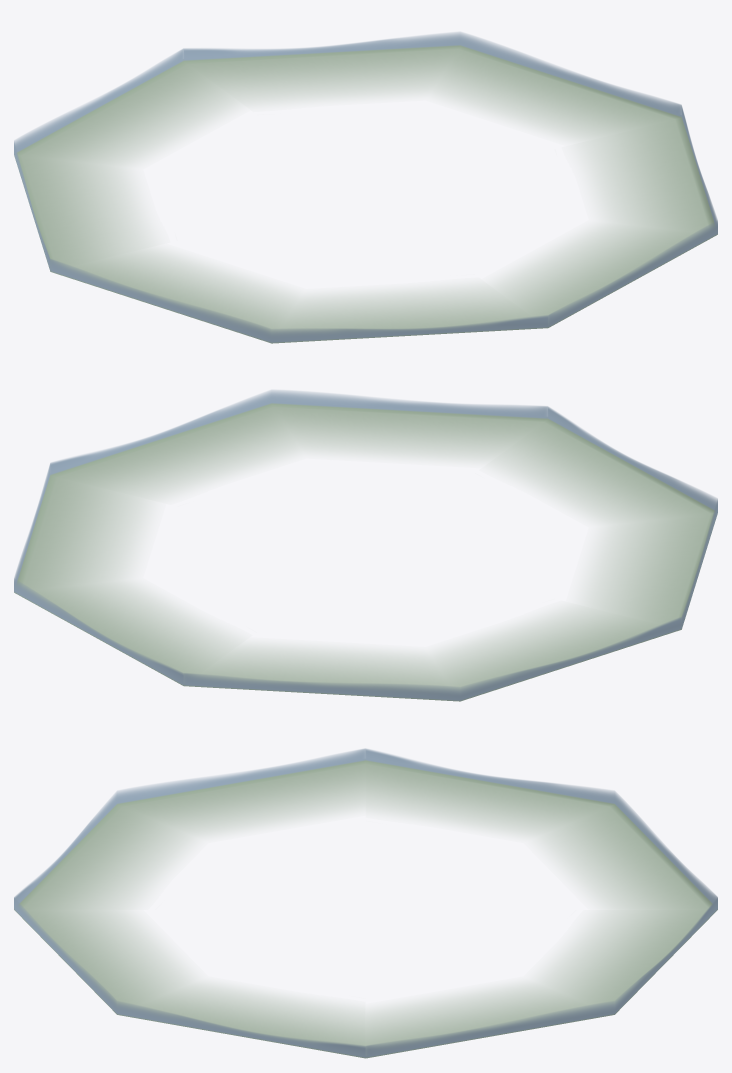
File: far.glb
The picture shows the model from 3 angles, top to bottom: view 1: azimuth 30°, elevation 25°; view 2: azimuth 150°, elevation 25°; view 3: azimuth 270°, elevation 25°; orthographic projection. The views are drawn at different scales.
Visible parts, largest first — view 1: Cylinder; view 2: Cylinder; view 3: Cylinder.
Boxes of the visible parts, x1=… form: Cylinder: x1=14, y1=32, x2=717, y2=343; Cylinder: x1=14, y1=390, x2=717, y2=701; Cylinder: x1=14, y1=748, x2=717, y2=1058.
Bounding box in the file's own units: 4 × 0.1915 × 4.
Materials: 1 (1 with a texture image).
